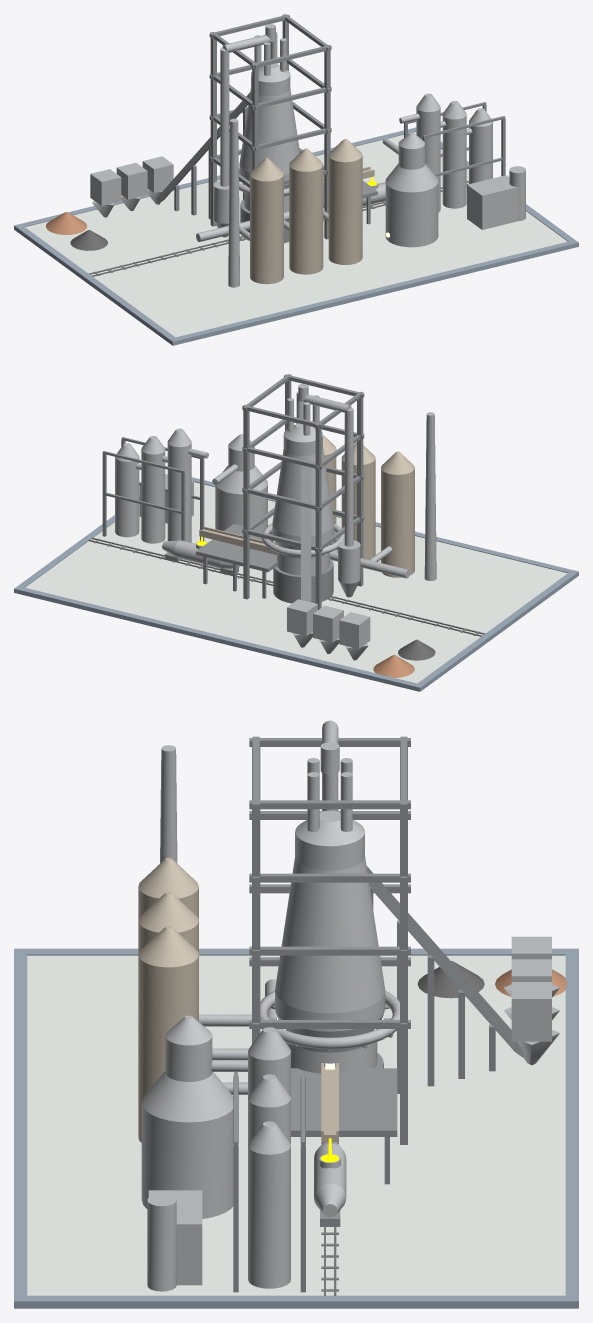
Rendered from ironmaking.glb.
3 renders of one model, top to bottom at view 1: azimuth 30°, elevation 25°; view 2: azimuth 150°, elevation 25°; view 3: azimuth 270°, elevation 25°, orthographic. The views are drawn at different scales.
Parts seen in each view (by area): view 1: Static; view 2: Static, TorpedoCar; view 3: Static, TorpedoCar.
Part boxes in pixels (x1,y1,x2,y2): Static: (14, 14, 578, 345); Static: (14, 374, 578, 691); TorpedoCar: (162, 540, 240, 575); Static: (14, 720, 578, 1308); TorpedoCar: (314, 1142, 346, 1226).
Bounding box in the file's own units: 124 × 61 × 84.
